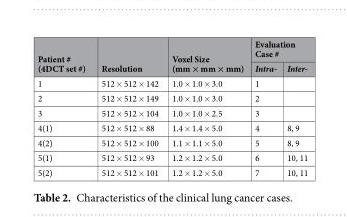table: (36, 37, 307, 178)
table column: (164, 37, 248, 178), (92, 37, 164, 178), (36, 37, 92, 178), (248, 37, 281, 178), (281, 37, 307, 178)
table column header: (36, 37, 307, 75)
table row: (36, 37, 307, 60), (36, 60, 307, 75), (36, 75, 307, 90), (36, 90, 307, 105), (36, 105, 307, 120), (36, 134, 307, 149), (36, 149, 307, 164), (36, 120, 307, 134), (36, 164, 307, 178)
table spanning cell: (164, 37, 248, 75), (92, 37, 164, 75), (36, 37, 92, 75), (248, 37, 307, 60)
